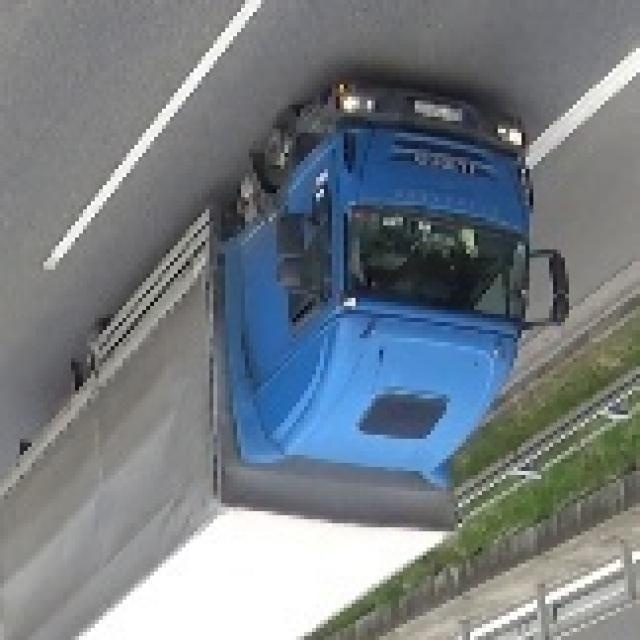Truck: (0, 76, 565, 640)
